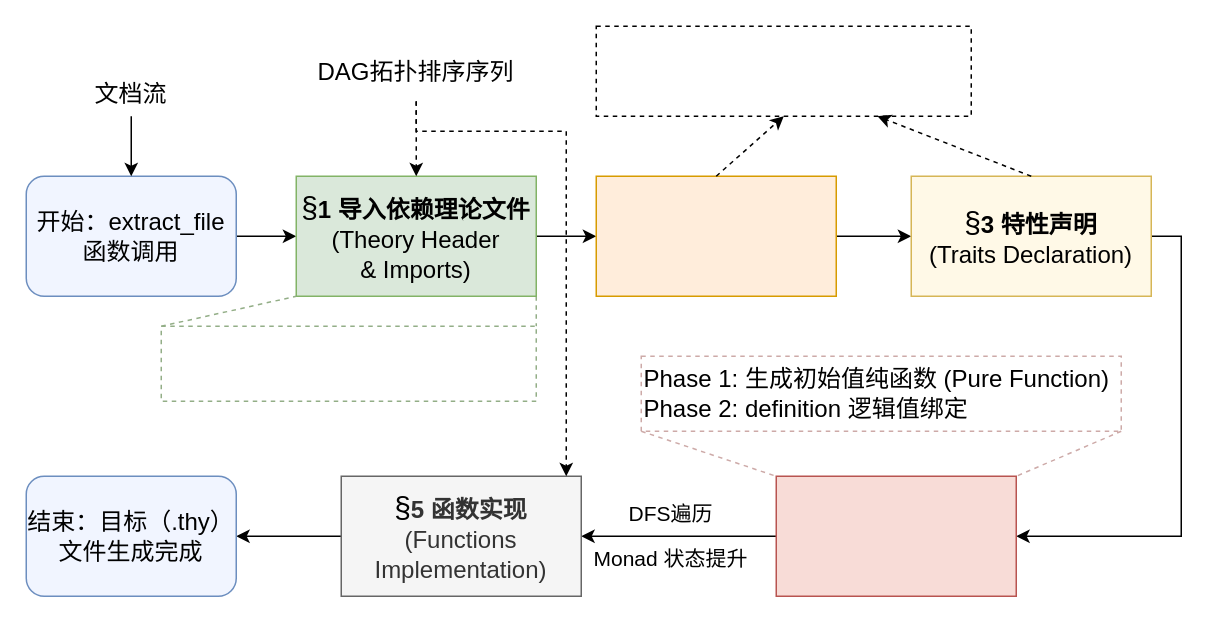
This 1220x623 diagram has some shape labels left out. The centre of each missing label's shape, as x and y in pixels:
"- theory [文件名] - imports Primitives (R2I-Prelude)" goes at (x=348, y=363).
"§ 2 类型定义 (Types Definition)" goes at (x=715, y=235).
"§ 4 全局变量绑定 (Globals Binding)" goes at (x=895, y=535).
"类型映射为 datatype / record Trait映射为 record" goes at (x=783, y=70).
